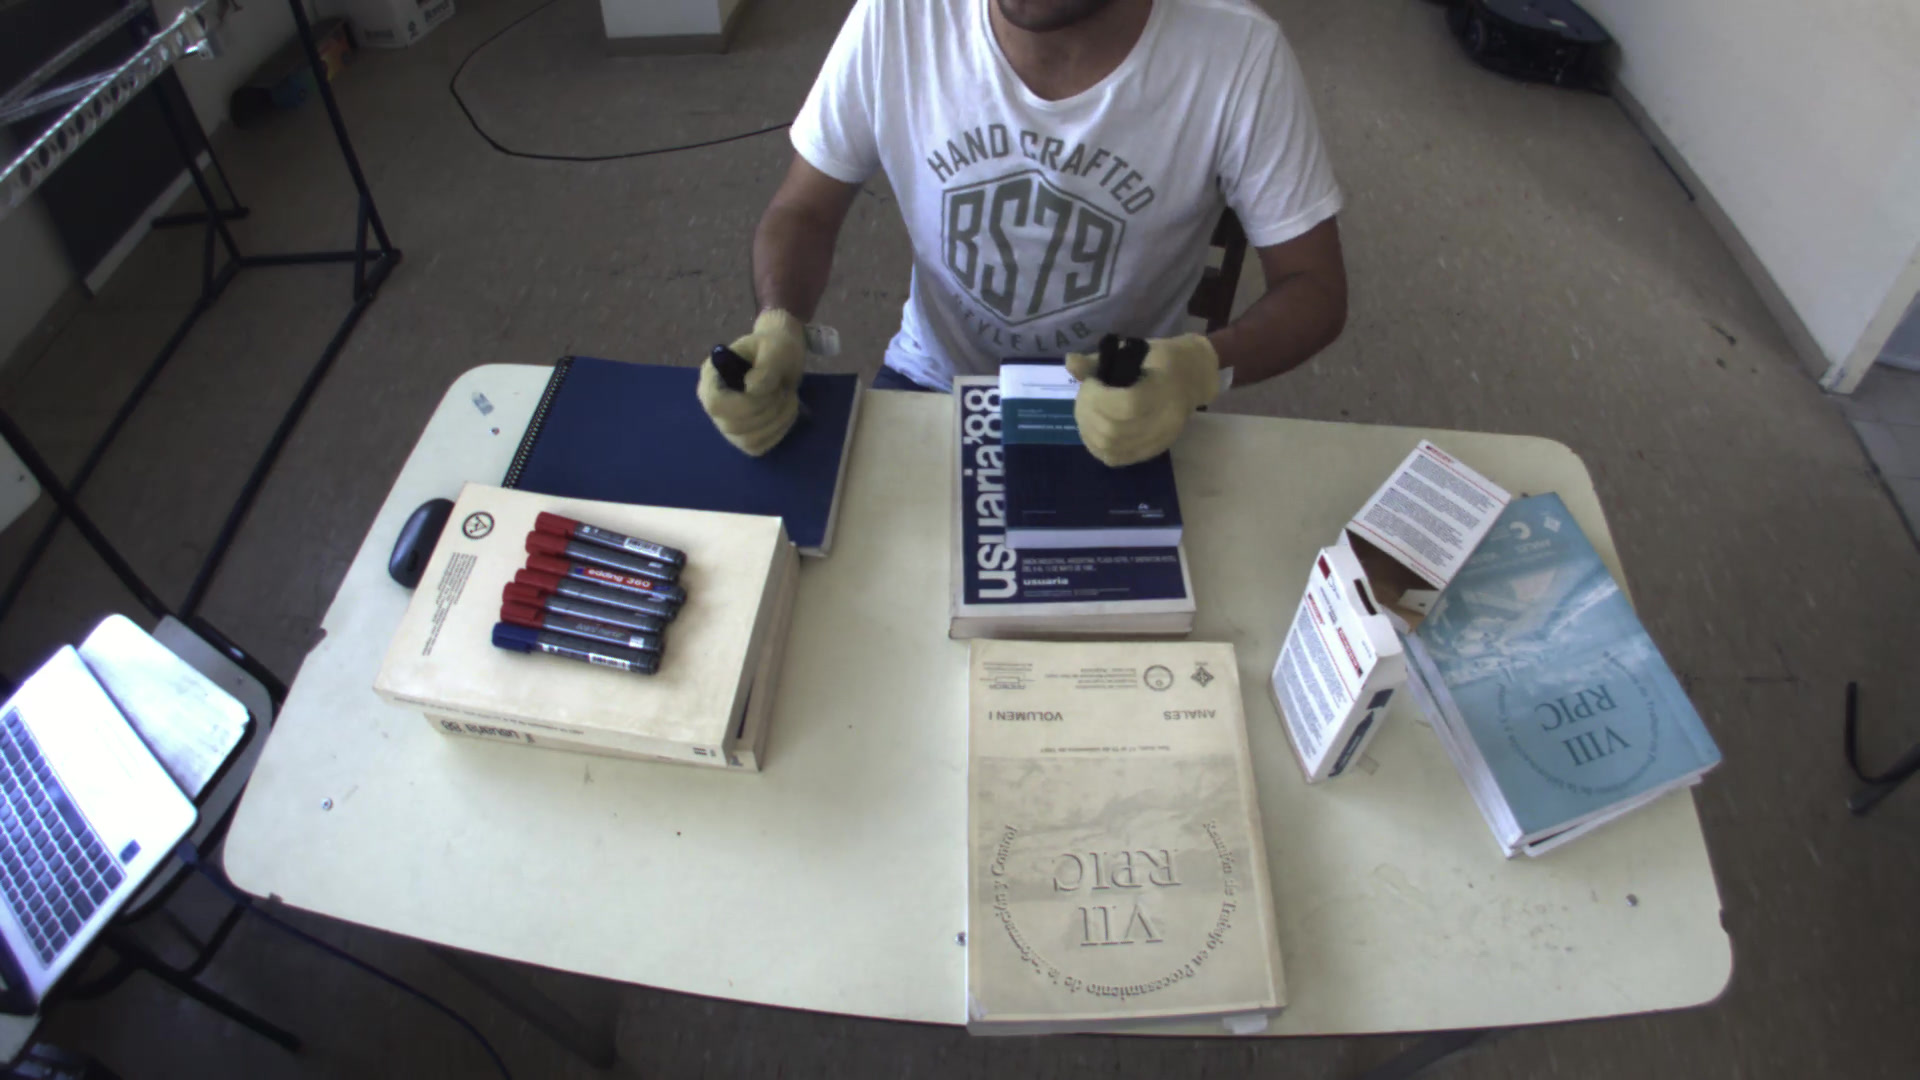hand: (1058, 323, 1241, 475), (686, 303, 818, 467)
